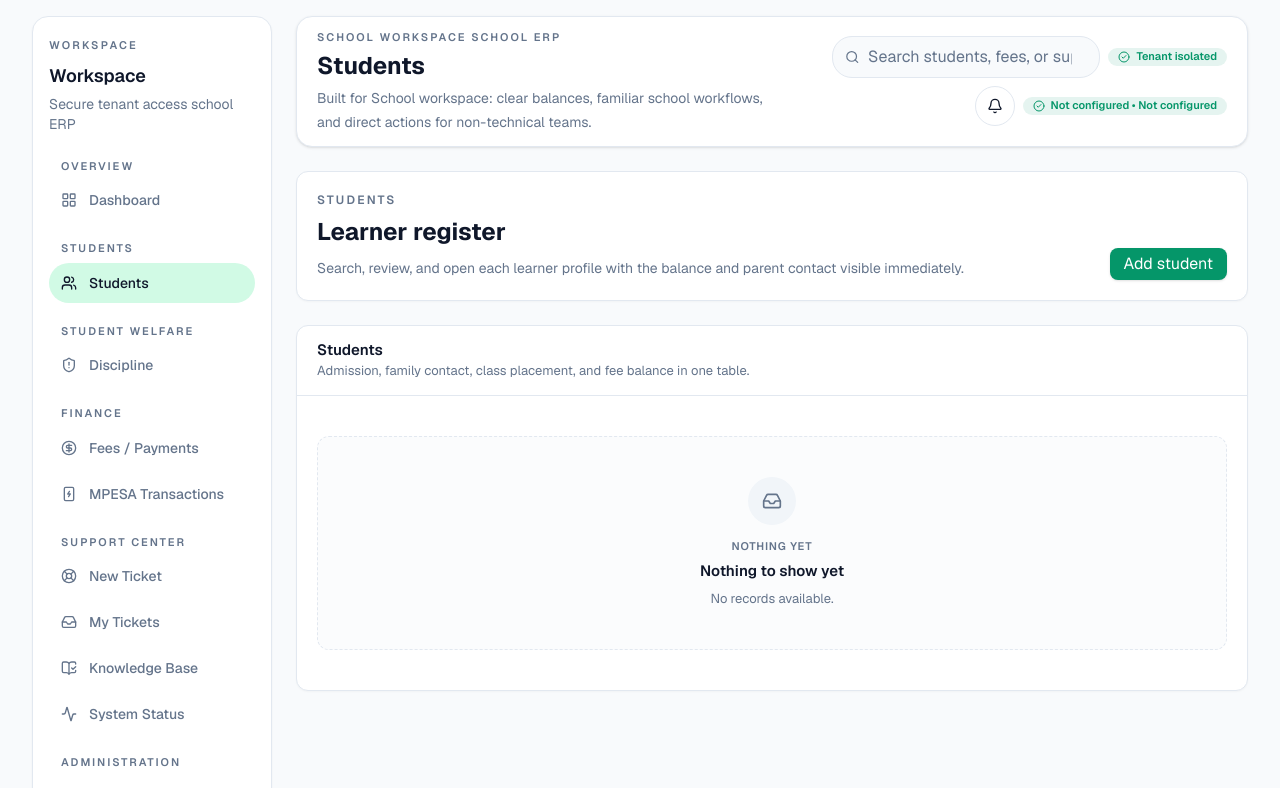
Test case: experience actions › adds a learner from the school students workspace instead of exposing a dead action
The width and height of the screenshot is (1280, 788).
Click the button "Add student": {"x": 1168, "y": 264} [1110, 248, 1227, 280]
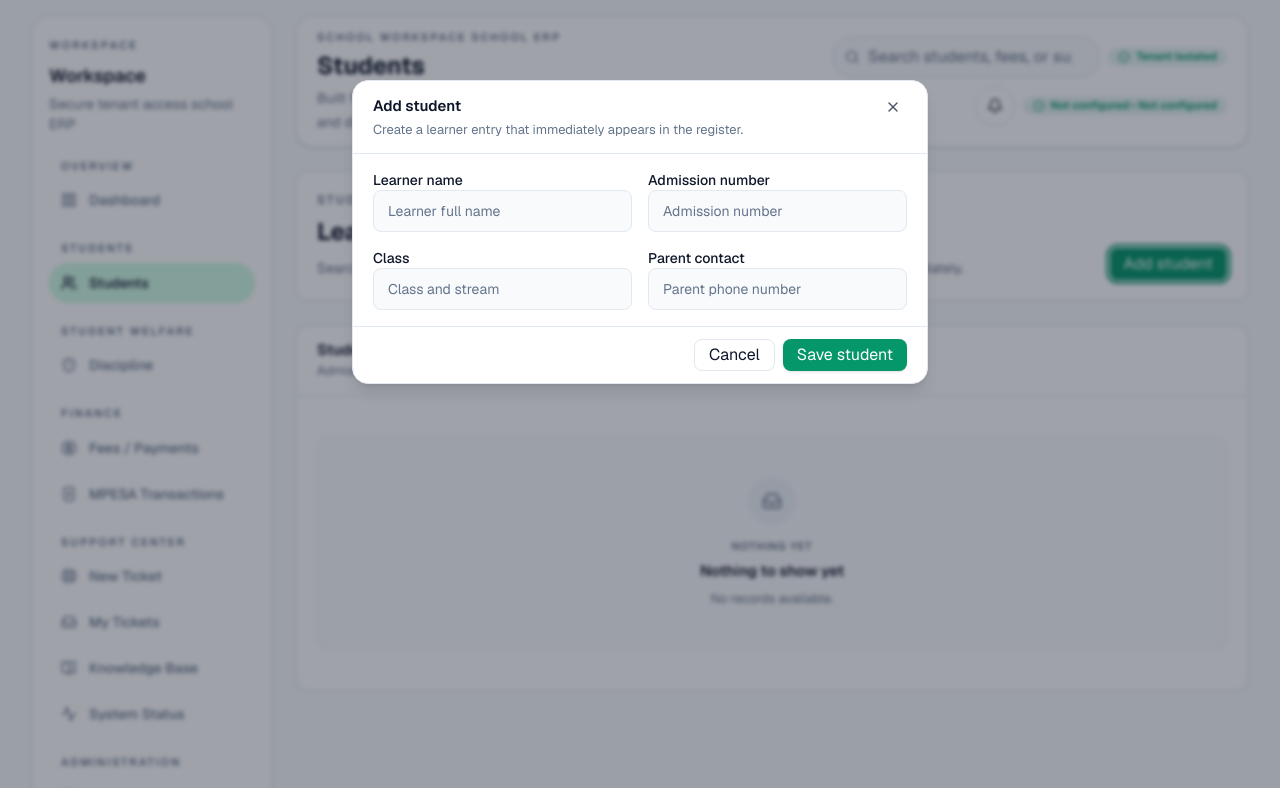
In the field labelled "Learner name": {"x": 502, "y": 211} [373, 190, 632, 232], type "Mercy Atieno"
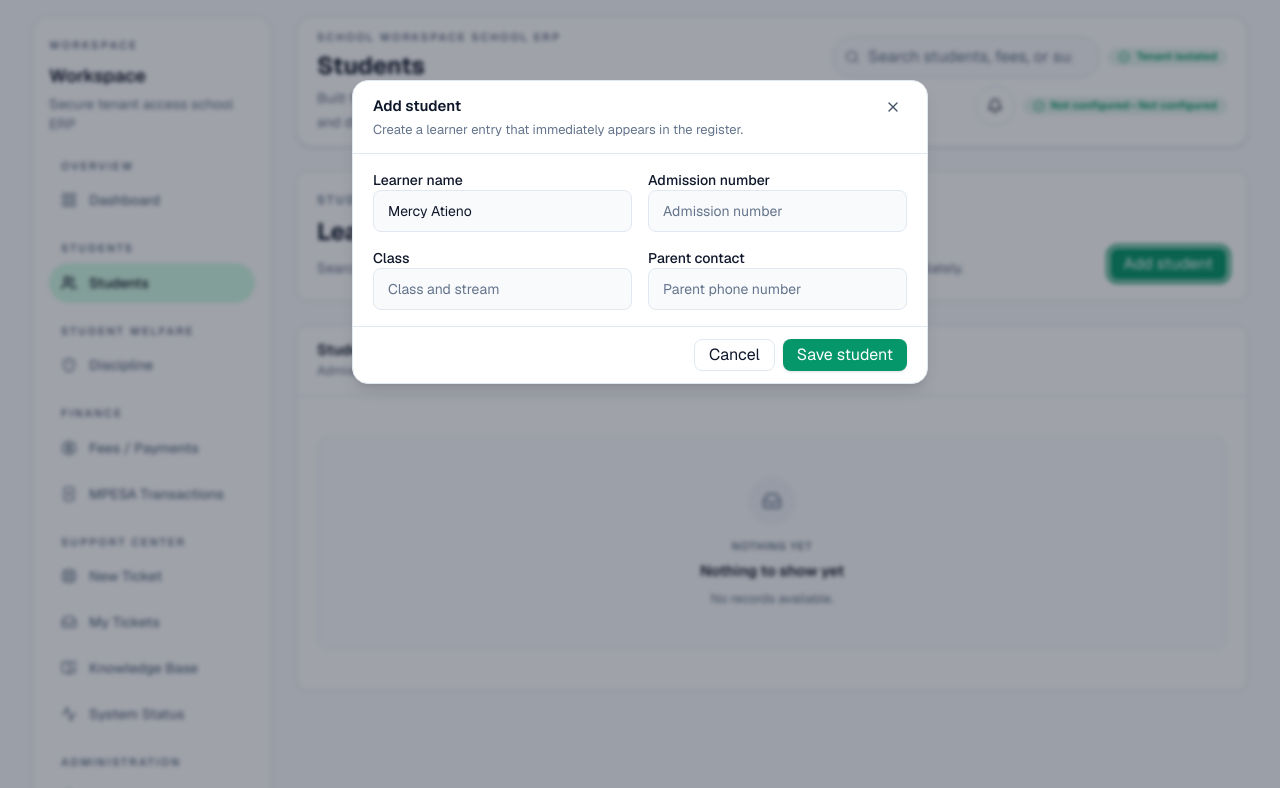
In the field labelled "Admission number": {"x": 778, "y": 211} [648, 190, 907, 232], type "ADM-9001"
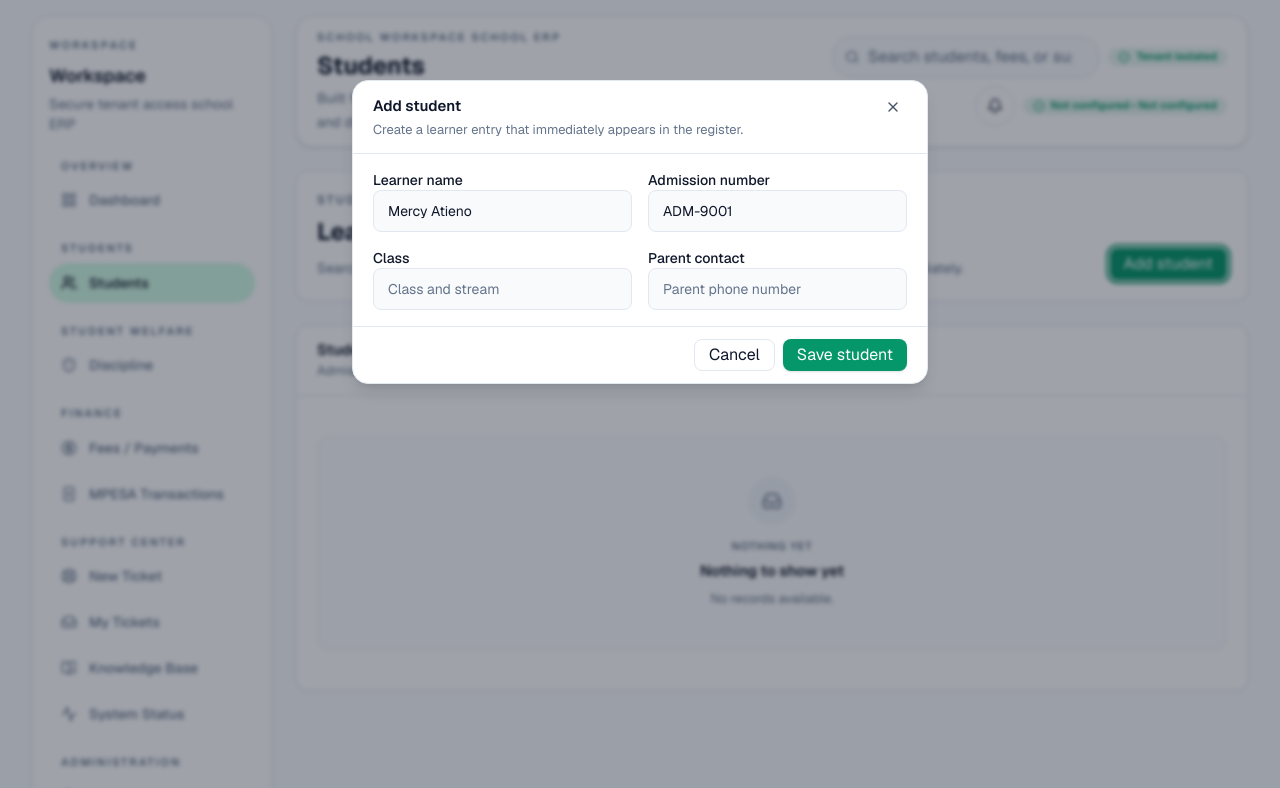
In the field labelled "Class": {"x": 502, "y": 289} [373, 268, 632, 310], type "Grade 6 Hope"
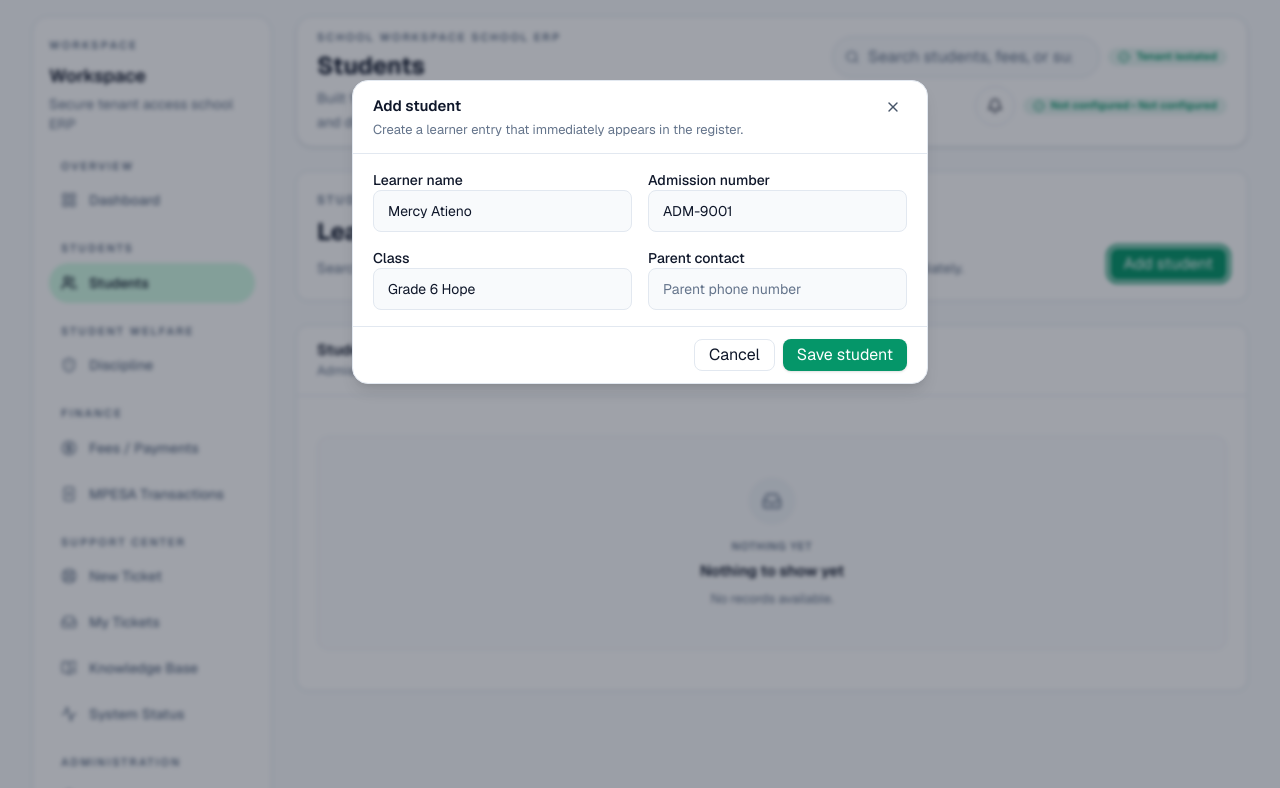
In the field labelled "Parent contact": {"x": 778, "y": 289} [648, 268, 907, 310], type "0722000001"
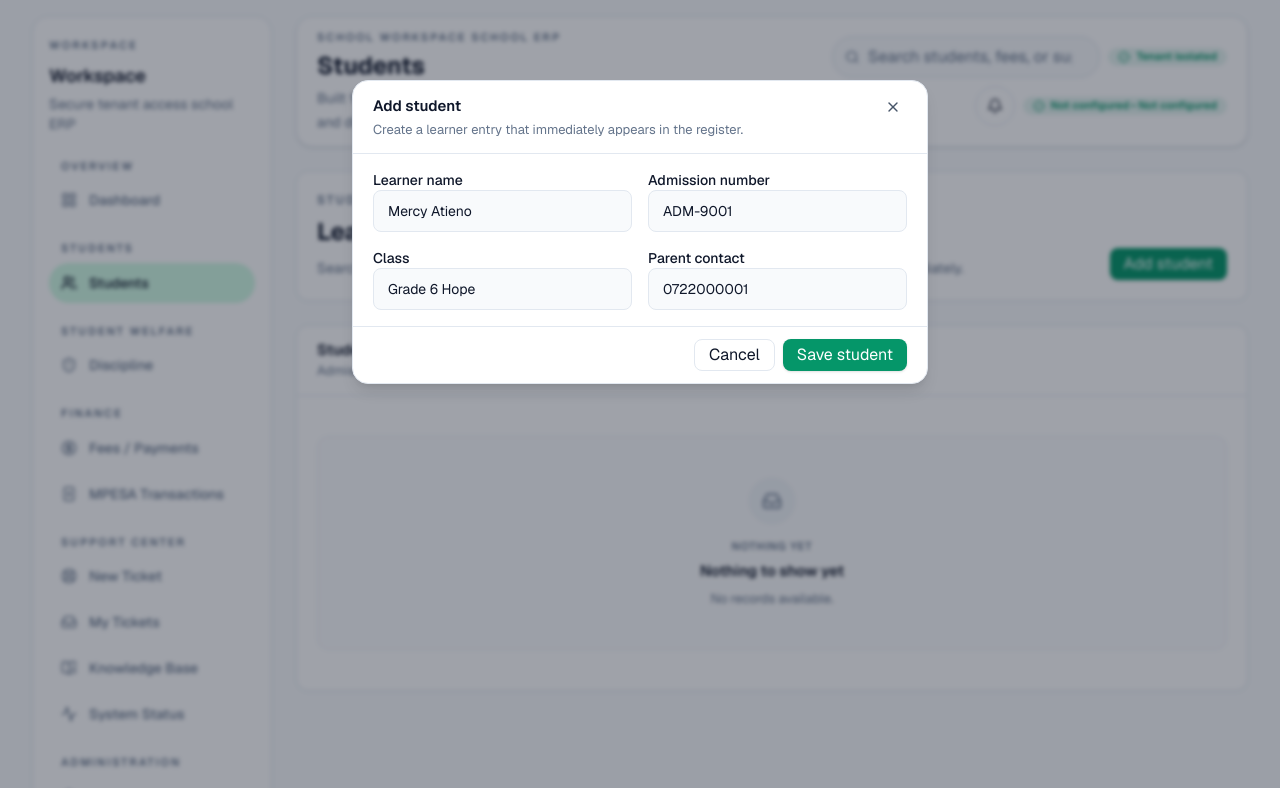
Click the button "Save student": {"x": 845, "y": 355} [783, 339, 907, 371]
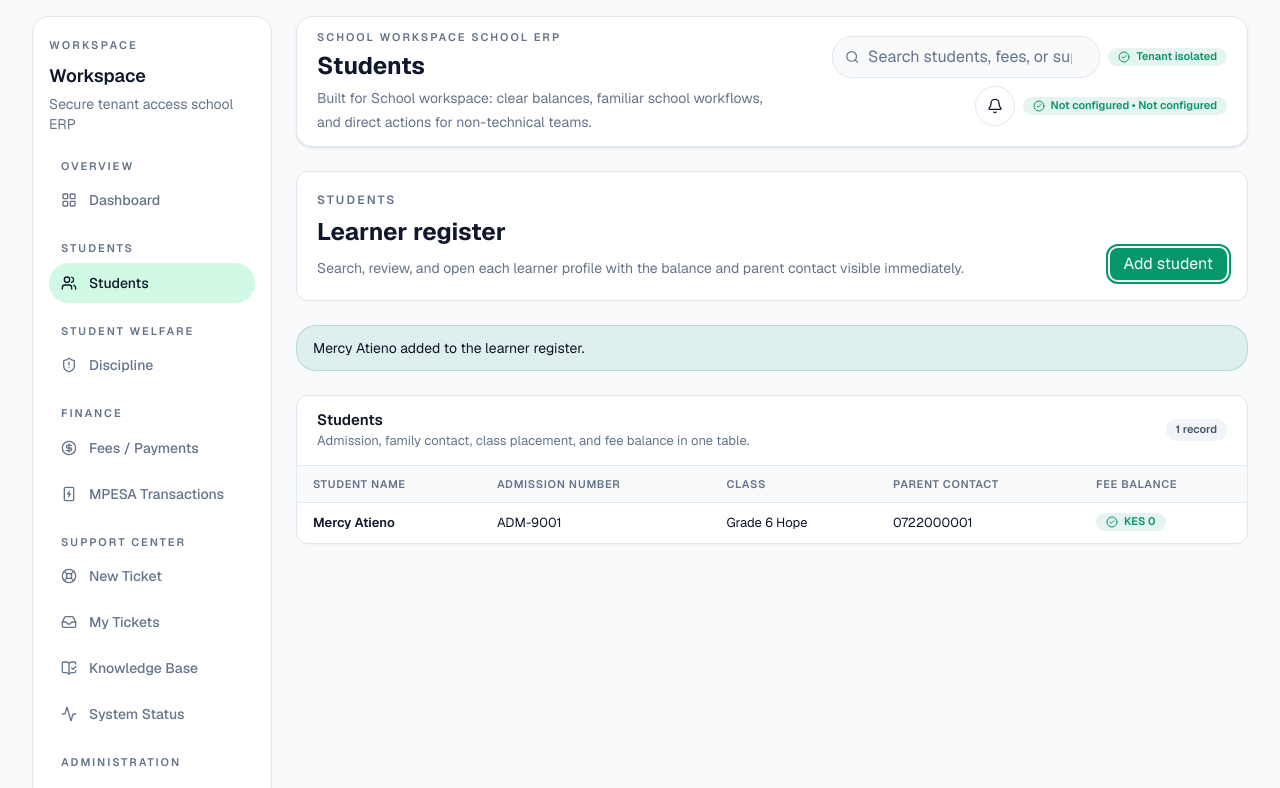
Expected: the text "Mercy Atieno added to the learner register." is shown, [296, 324, 1248, 370]
